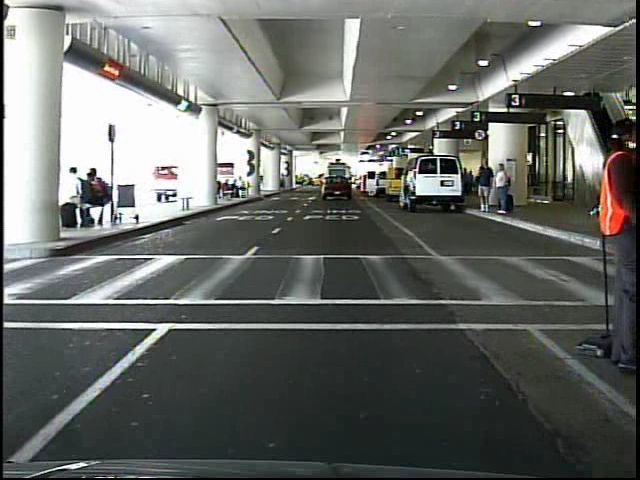person: (587, 116, 639, 370), (493, 159, 514, 221), (474, 153, 494, 217), (319, 170, 330, 194)
